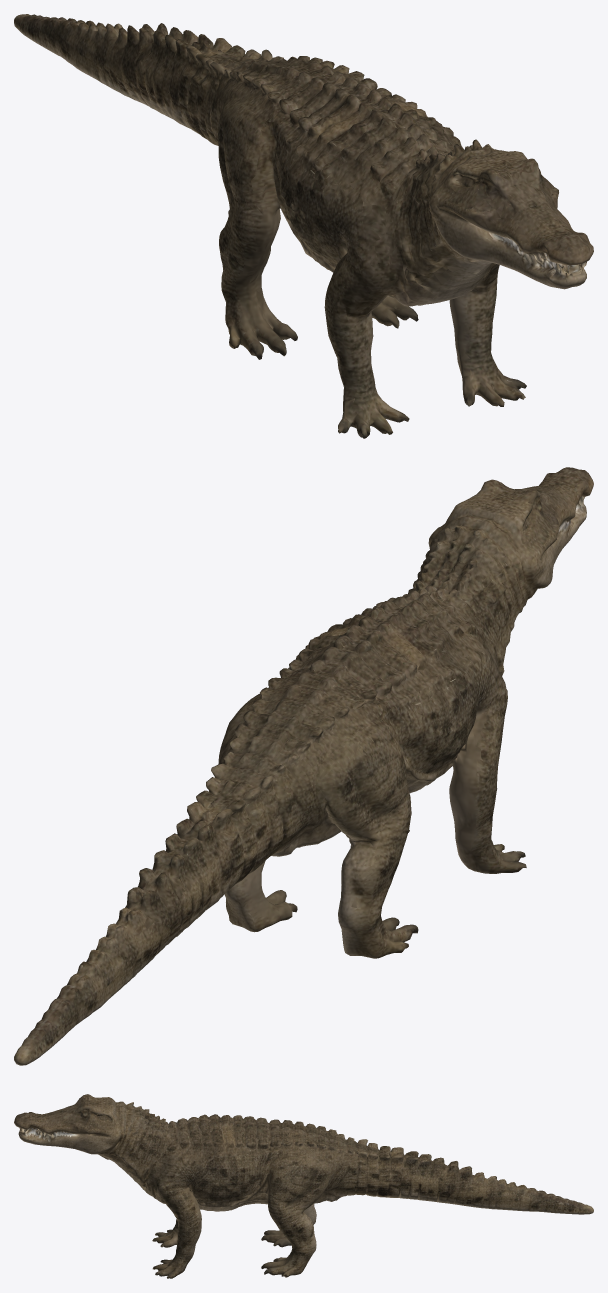
File: saurosuchus.glb
3 views of the same model, one above another, from view 1: azimuth 30°, elevation 25°; view 2: azimuth 150°, elevation 25°; view 3: azimuth 270°, elevation 25° (orthographic). The views are drawn at different scales.
Parts seen in each view (by area): view 1: saurosuchus_medio; view 2: saurosuchus_medio; view 3: saurosuchus_medio.
Boxes of the visible parts, box(x1,y1,x2,y2) form: saurosuchus_medio: box(14, 14, 593, 438); saurosuchus_medio: box(14, 467, 593, 1065); saurosuchus_medio: box(14, 1094, 593, 1278).
Size of the model in its own units: 1.15 by 1.8 by 6.
1 material, 1 textured.
